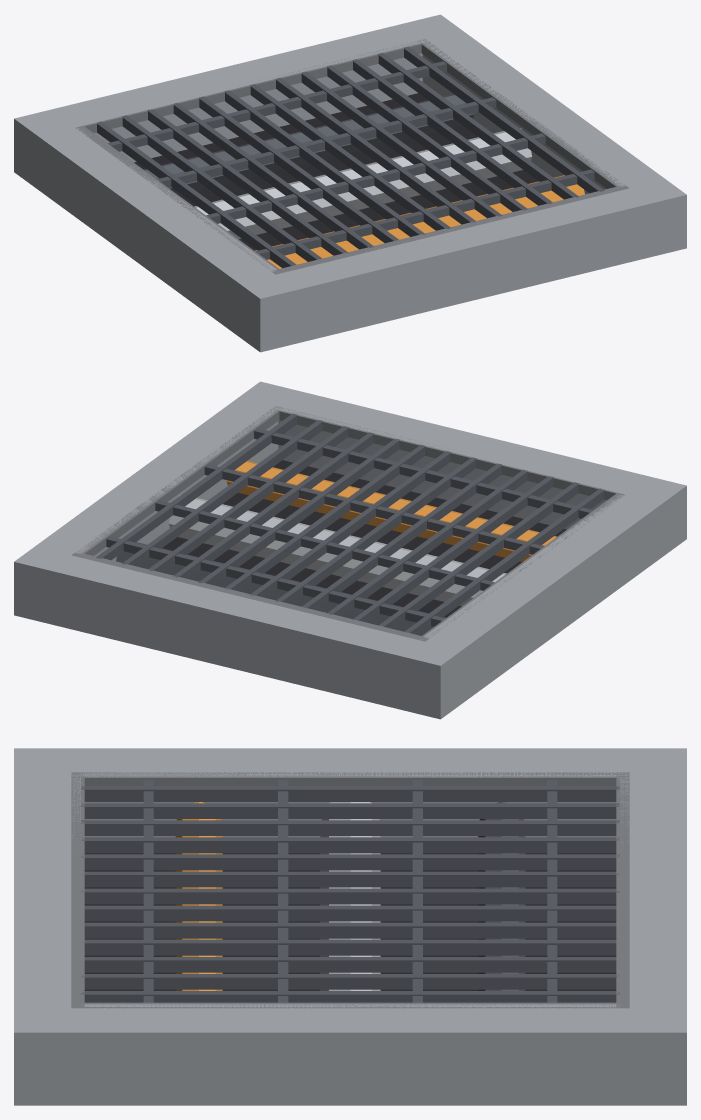
Rendered from SM_Floor_Grate.glb.
3 renders of one model, top to bottom at view 1: azimuth 30°, elevation 25°; view 2: azimuth 150°, elevation 25°; view 3: azimuth 270°, elevation 25°, orthographic. The views are drawn at different scales.
Visible parts, largest first — view 1: SM_Floor_Grate; view 2: SM_Floor_Grate; view 3: SM_Floor_Grate.
Boxes of the visible parts, left/top/right/bottom form: SM_Floor_Grate: left=14, top=14, right=686, bottom=352; SM_Floor_Grate: left=14, top=381, right=686, bottom=719; SM_Floor_Grate: left=14, top=748, right=686, bottom=1105.
Size of the model in its own units: 2 by 0.24 by 2.
